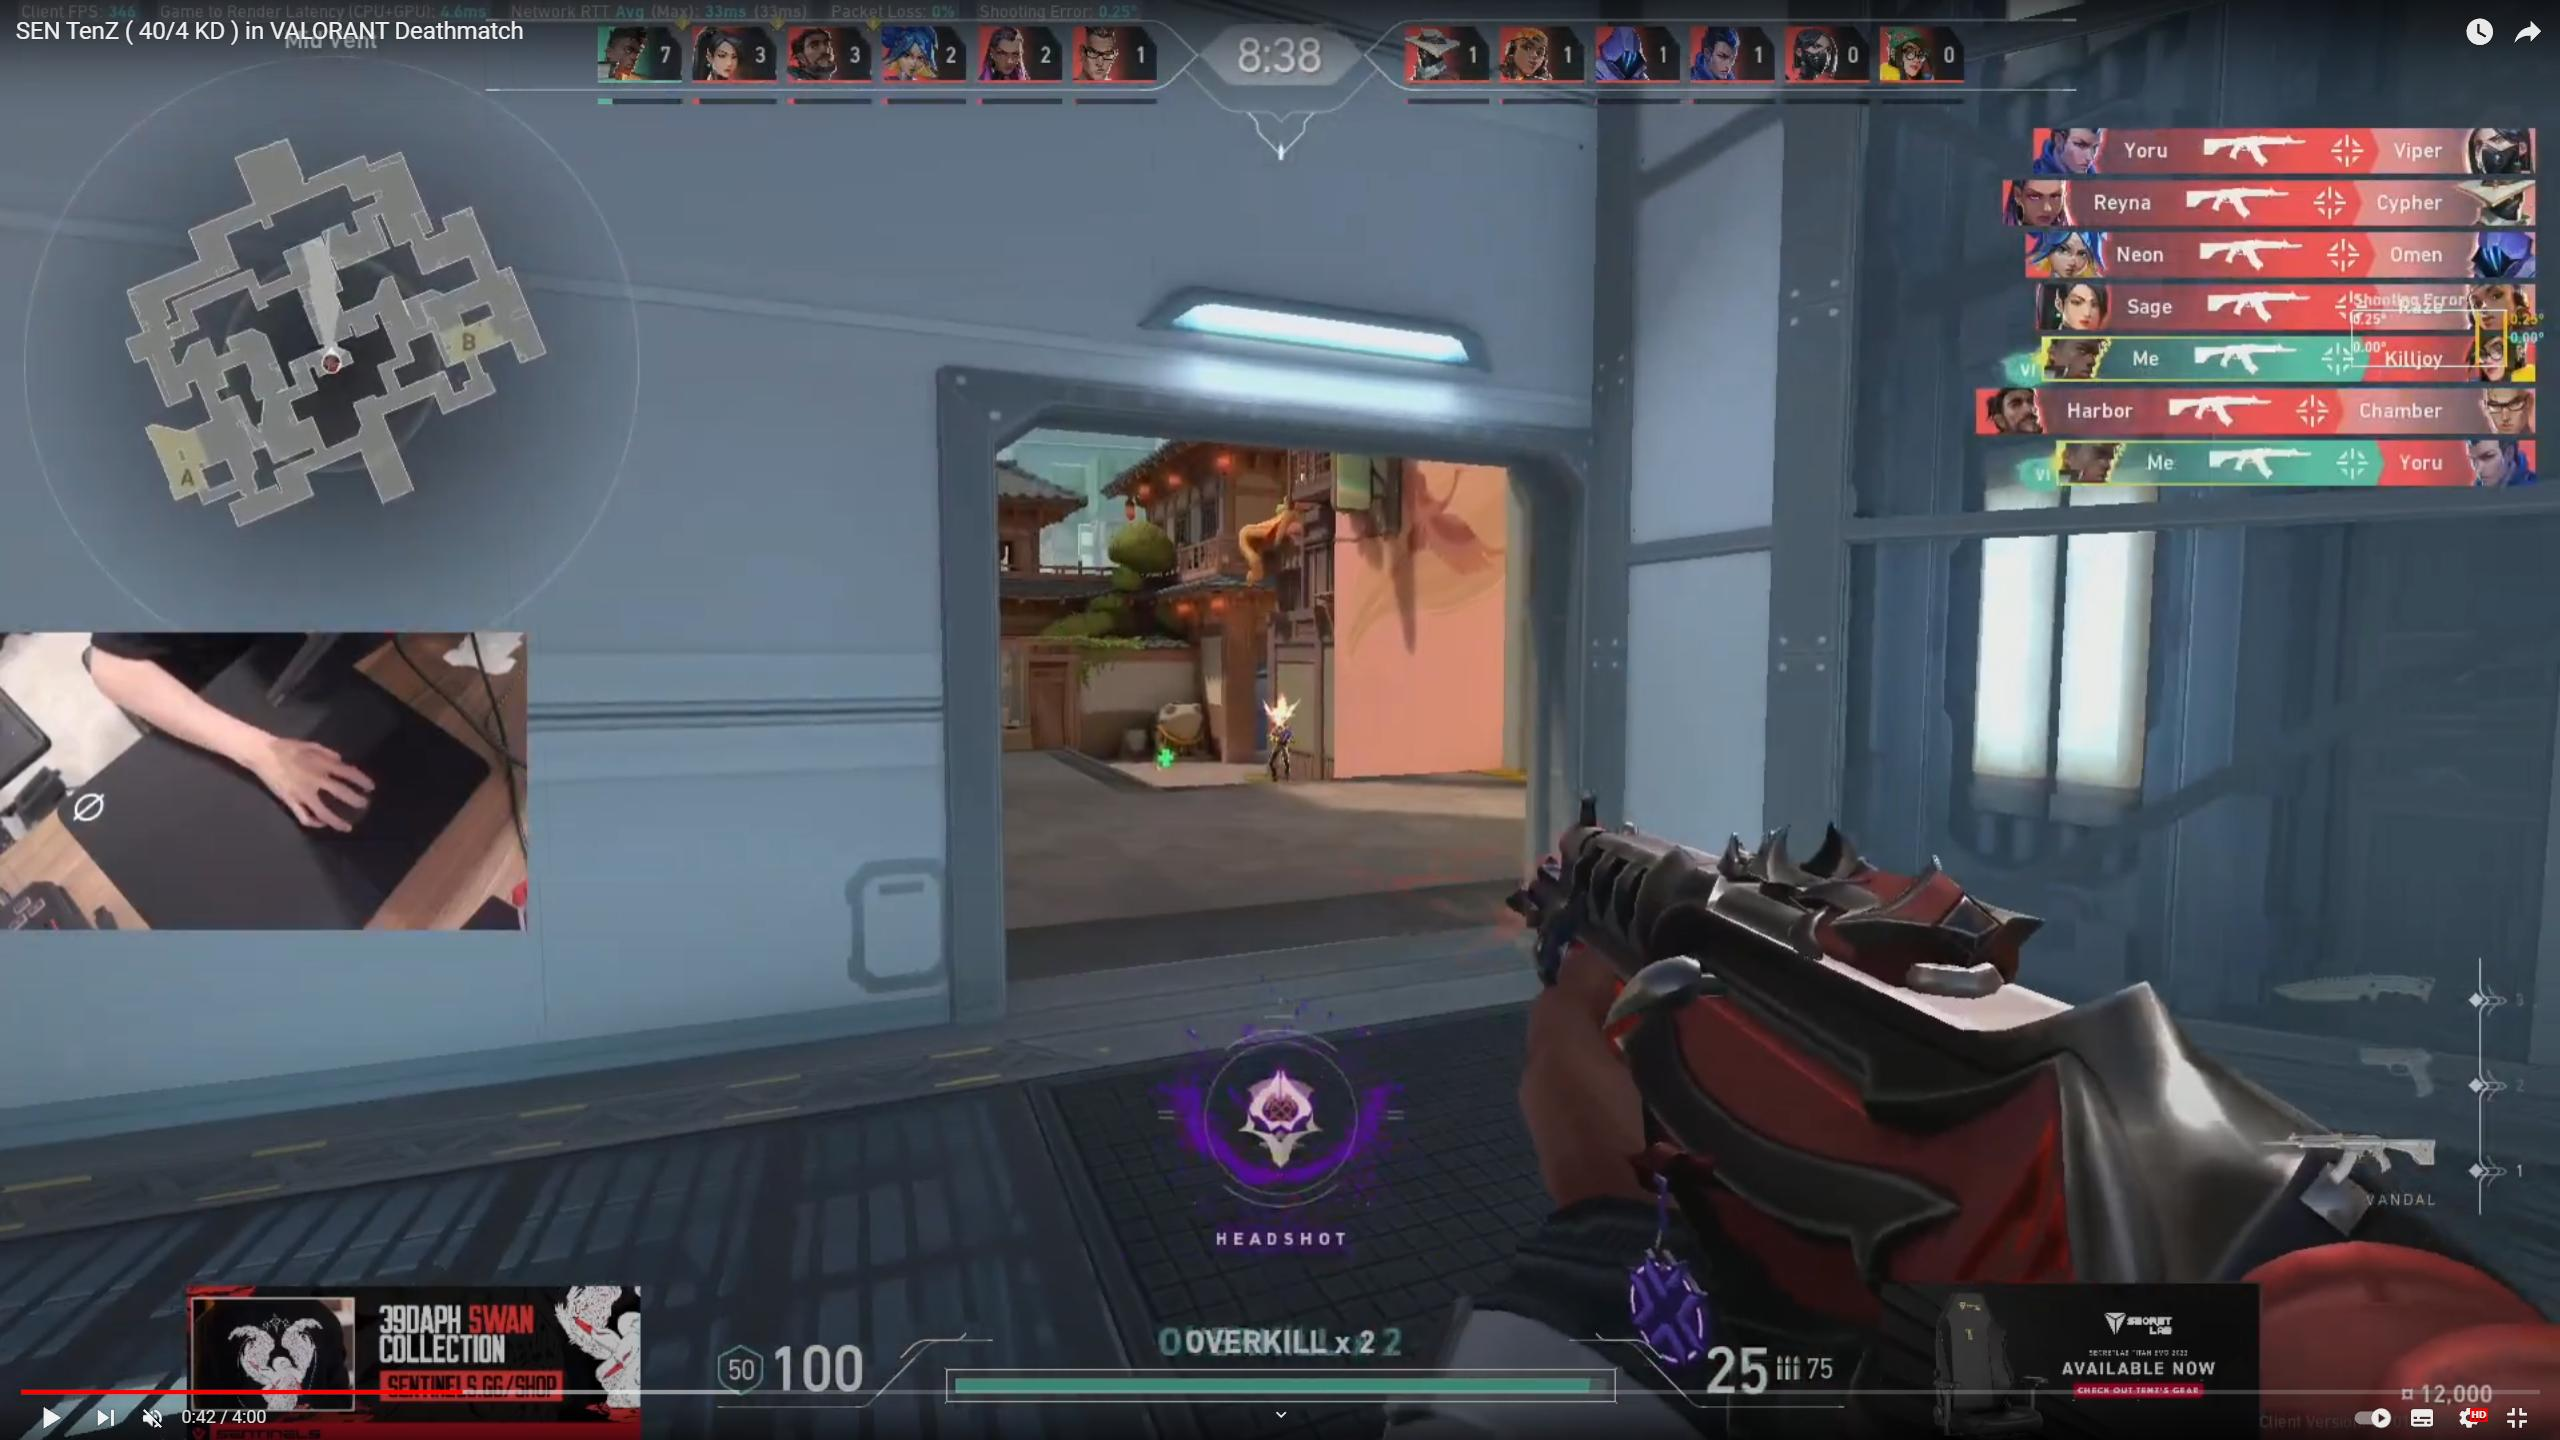enemyHead: (1268, 693, 1298, 731)
